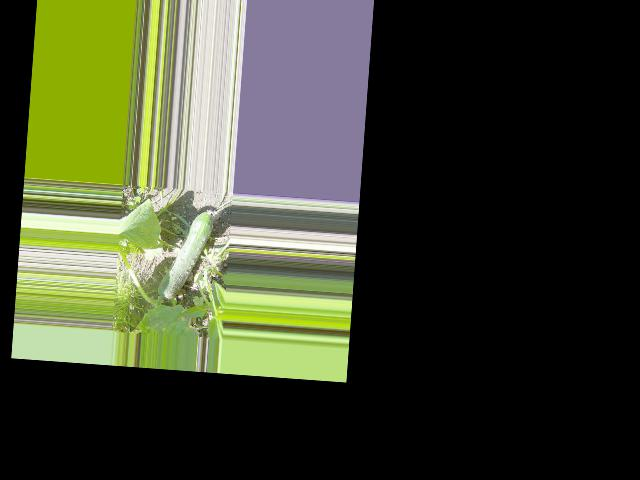cucumber: (157, 207, 214, 303)
